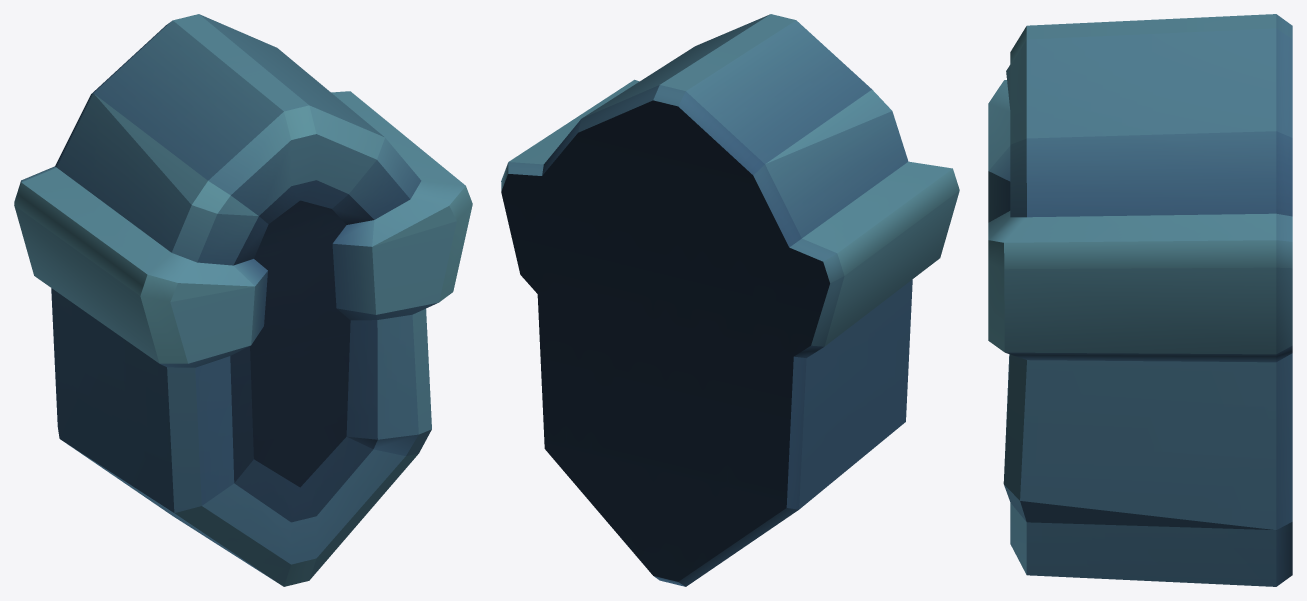
File: ornament_3.fbx
3 renders of one model, left to right at view 1: azimuth 30°, elevation 25°; view 2: azimuth 150°, elevation 25°; view 3: azimuth 270°, elevation 25°, orthographic. The views are drawn at different scales.
Visible parts, largest first — view 1: ornament_3; view 2: ornament_3; view 3: ornament_3.
Part boxes in pixels (x1,y1,x2,y2): ornament_3: [14, 14, 472, 586]; ornament_3: [501, 14, 959, 586]; ornament_3: [988, 14, 1292, 586].
Bounding box in the file's own units: 158 × 218 × 108.
